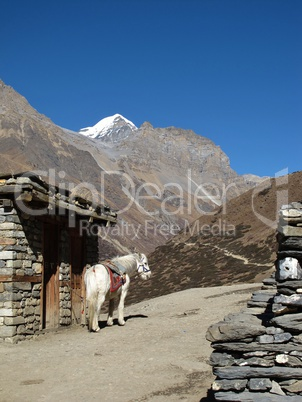equine: (73, 249, 158, 332)
